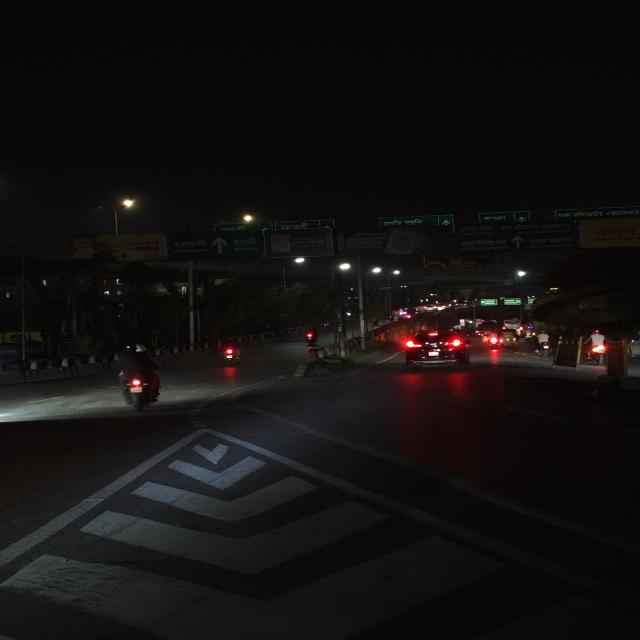car: (402, 327, 472, 369)
cng: (499, 329, 518, 347)
motorcycle: (111, 342, 166, 412), (214, 335, 248, 369), (584, 329, 610, 363), (531, 330, 553, 362), (300, 324, 322, 348)
